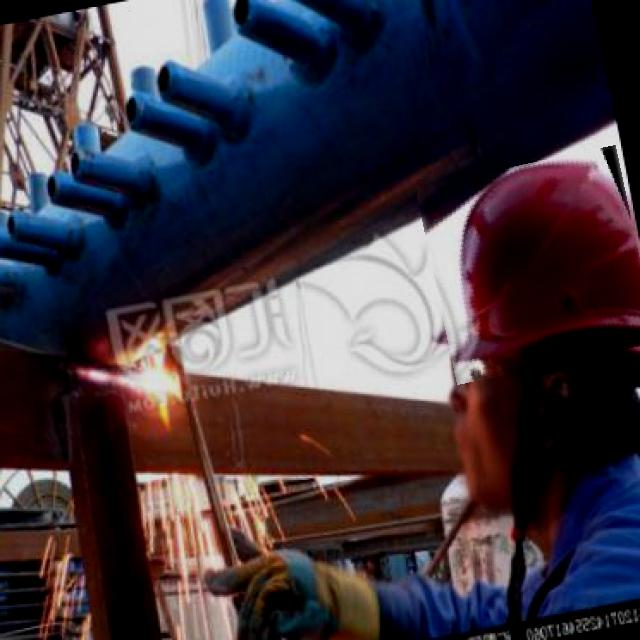helmet: (426, 154, 640, 375)
